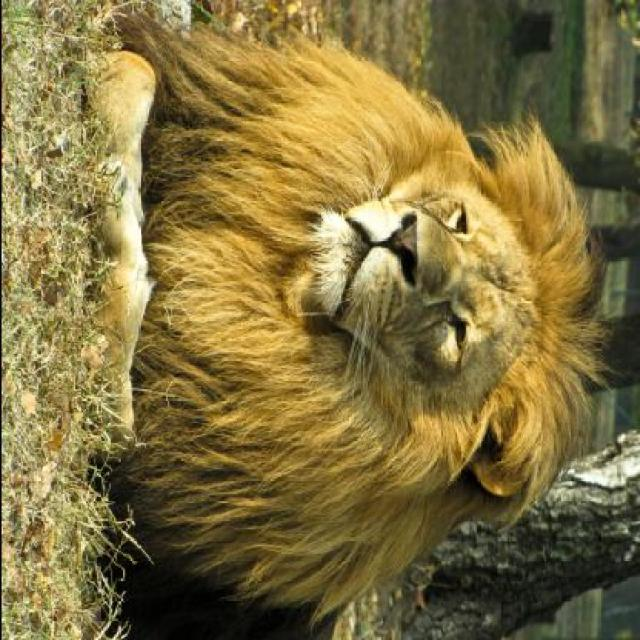Lion: (57, 2, 605, 629)
